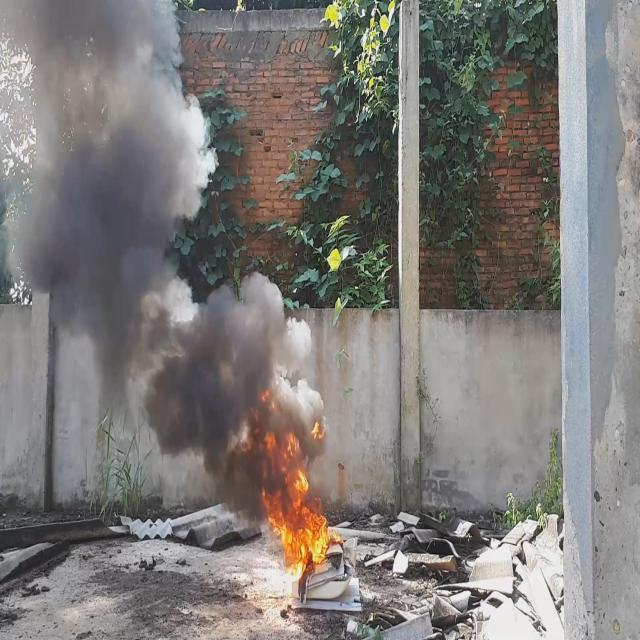Fire: (259, 419, 332, 571)
Smoke: (0, 0, 330, 524)
